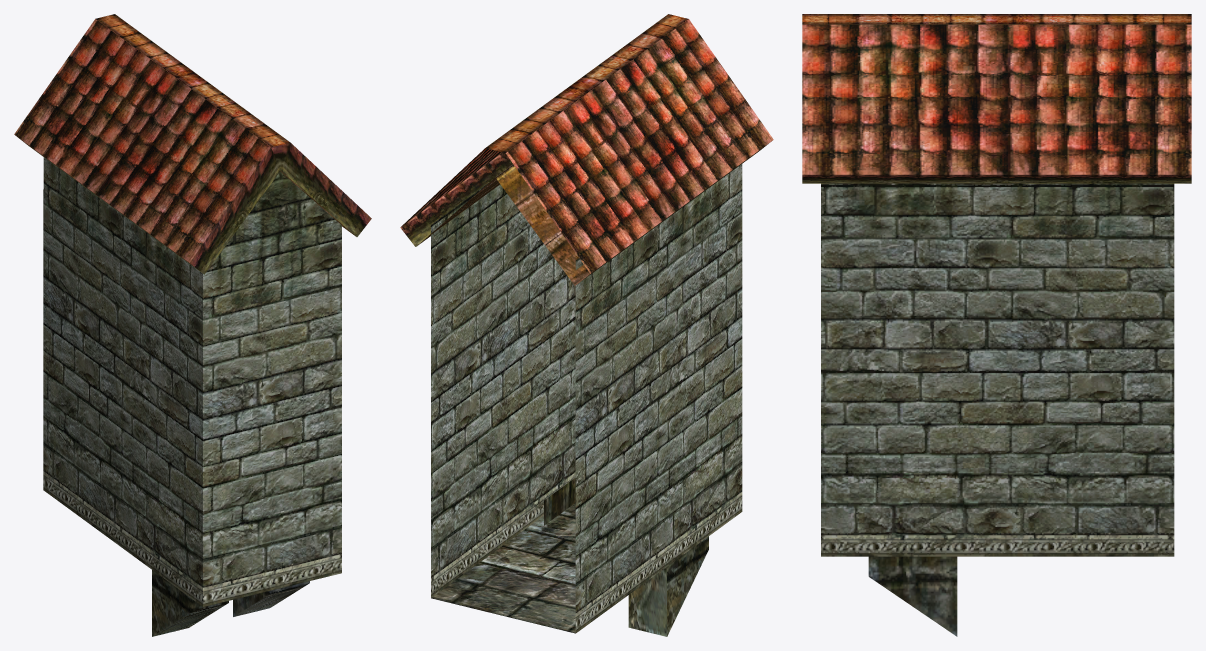
3 views of the same model, side by side, from view 1: azimuth 30°, elevation 25°; view 2: azimuth 150°, elevation 25°; view 3: azimuth 270°, elevation 25° (orthographic). The views are drawn at different scales.
Visible parts, largest first — view 1: cc06-col; view 2: cc06-col; view 3: cc06-col.
Part boxes in pixels (x1,y1,x2,y2): cc06-col: (14,14,371,636); cc06-col: (400,14,773,636); cc06-col: (802,14,1191,636).
Bounding box in the file's own units: 2.63 × 7.28 × 4.38.
Materials: 7 (7 with a texture image).
